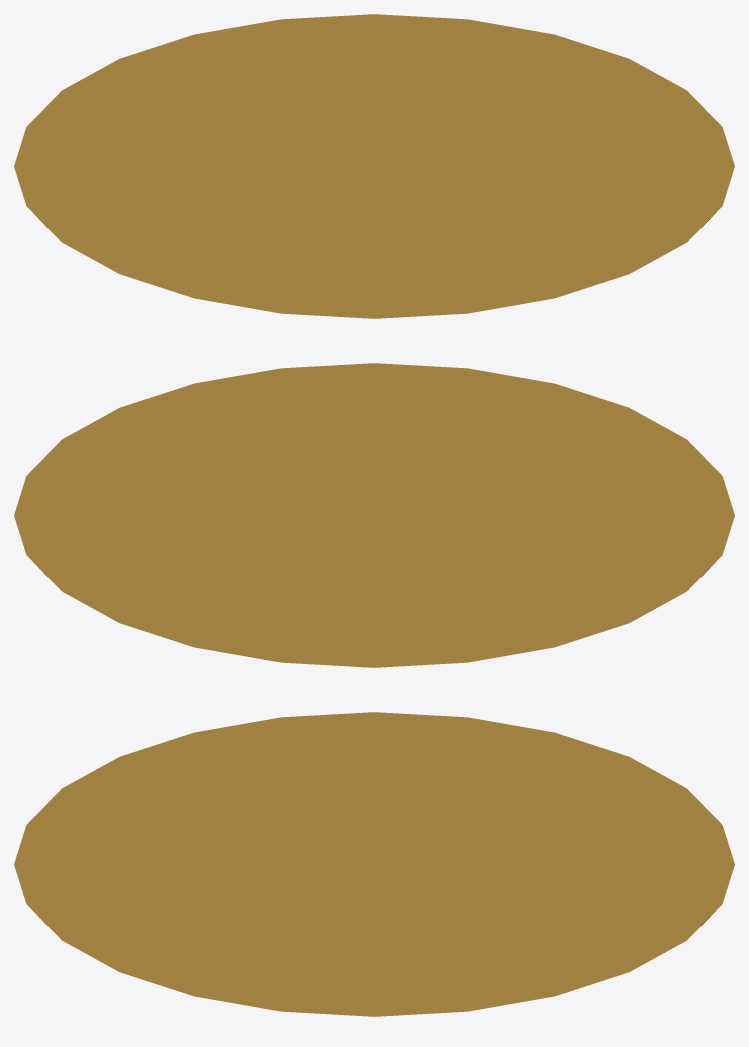
File: tray.glb
3 renders of one model, top to bottom at view 1: azimuth 30°, elevation 25°; view 2: azimuth 150°, elevation 25°; view 3: azimuth 270°, elevation 25°, orthographic.
Bounding box in the file's own units: 0.64 × 0.025 × 0.64.
